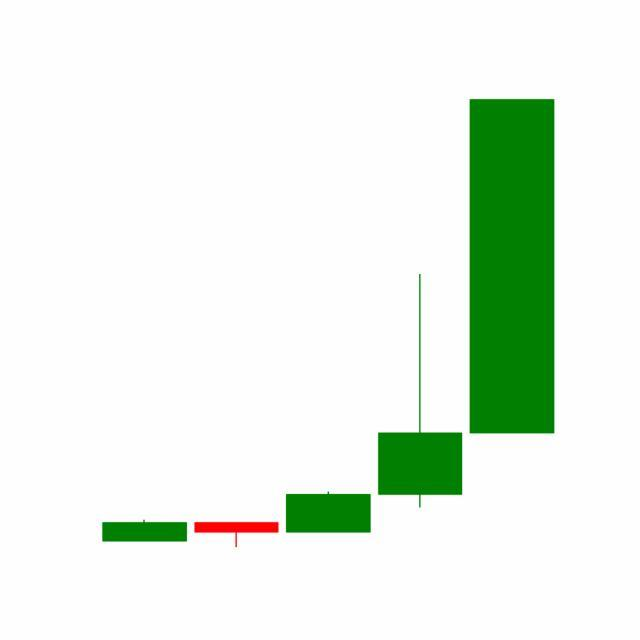Marubozu: (466, 96, 559, 438)
